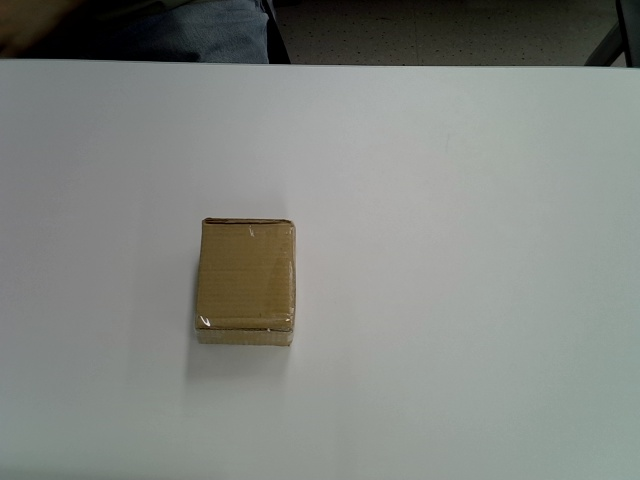normal: (193, 216, 297, 346)
